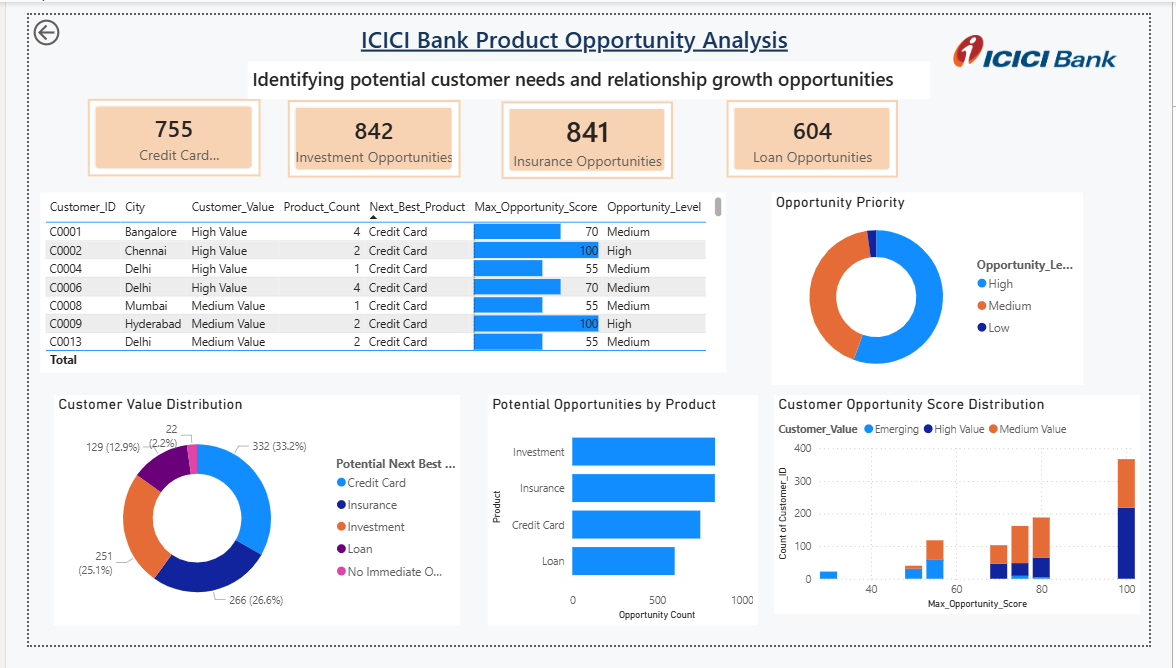

The dashboard page shown, as its layout file describes it:
{"tool":"powerbi","page":{"name":"Product Opportunities","canvas":[1280,720],"ordinal":1},"visuals":[{"type":"textbox","box":[374.3,4.3,531.4,72.9],"z":0},{"type":"image","box":[1030,22.9,240,37.1],"z":1000},{"type":"cardVisual","fields":{"Data":["Banking.Insurance Opportunities"]},"box":[540.7,98.8,196.2,89.2],"z":2000},{"type":"cardVisual","fields":{"Data":["Banking.Credit Card Opportunities"]},"box":[67.2,96.1,197.6,89.2],"z":3000},{"type":"cardVisual","fields":{"Data":["Banking.Loan Opportunities"]},"box":[797.3,97.4,196.2,89.2],"z":4000},{"type":"cardVisual","fields":{"Data":["Banking.Investment Opportunities"]},"box":[295,97.4,197.6,89.2],"z":5000},{"type":"clusteredBarChart","title":"Potential Opportunities by Product","fields":{"Category":["Product Opportunities.Product"],"Y":["Product Opportunities.Opportunity Count"]},"box":[524.3,434.3,308.6,262.9],"z":6000},{"type":"columnChart","title":"Customer Opportunity Score Distribution","fields":{"Category":["Banking.Max_Opportunity_Score"],"Y":["CountNonNull(Banking.Customer_ID)"],"Series":["Banking.Customer_Value"]},"box":[851.4,434.3,418.6,250],"z":7000},{"type":"donutChart","title":"Customer Value Distribution","fields":{"Category":["Banking.Next_Best_Product"],"Y":["CountNonNull(Banking.Customer_ID)"]},"box":[28.6,434.3,464.3,262.9],"z":8000},{"type":"donutChart","title":"Opportunity Priority","fields":{"Category":["Banking.Opportunity_Level"],"Y":["CountNonNull(Banking.Customer_ID)"]},"box":[848.6,202.9,355.7,220],"z":9000},{"type":"textbox","box":[250,52.9,780,42.9],"z":10000},{"type":"tableEx","fields":{"Values":["Banking.Customer_ID","Banking.City","Banking.Customer_Value","Banking.Product_Count","Banking.Next_Best_Product","Banking.Max_Opportunity_Score","Banking.Opportunity_Level"]},"box":[12.9,202.9,784.3,205.7],"z":11000},{"type":"actionButton","box":[0,0,100,40],"z":12000}]}

Visuals, with their boxes in screenshot pixels (x1, y1, x2, y2), scaled from the page's 1280x720 canvas onto the 1176x668 screenshot:
textbox: {"x1": 344, "y1": 4, "x2": 832, "y2": 72}
image: {"x1": 946, "y1": 21, "x2": 1167, "y2": 56}
cardVisual - Banking.Insurance Opportunities: {"x1": 497, "y1": 92, "x2": 677, "y2": 174}
cardVisual - Banking.Credit Card Opportunities: {"x1": 62, "y1": 89, "x2": 243, "y2": 172}
cardVisual - Banking.Loan Opportunities: {"x1": 733, "y1": 90, "x2": 913, "y2": 173}
cardVisual - Banking.Investment Opportunities: {"x1": 271, "y1": 90, "x2": 453, "y2": 173}
"Potential Opportunities by Product" clusteredBarChart: {"x1": 482, "y1": 403, "x2": 765, "y2": 647}
"Customer Opportunity Score Distribution" columnChart: {"x1": 782, "y1": 403, "x2": 1167, "y2": 635}
"Customer Value Distribution" donutChart: {"x1": 26, "y1": 403, "x2": 453, "y2": 647}
"Opportunity Priority" donutChart: {"x1": 780, "y1": 188, "x2": 1106, "y2": 392}
textbox: {"x1": 230, "y1": 49, "x2": 946, "y2": 89}
tableEx - Banking.Customer_ID x Banking.City: {"x1": 12, "y1": 188, "x2": 732, "y2": 379}
actionButton: {"x1": 0, "y1": 0, "x2": 92, "y2": 37}
